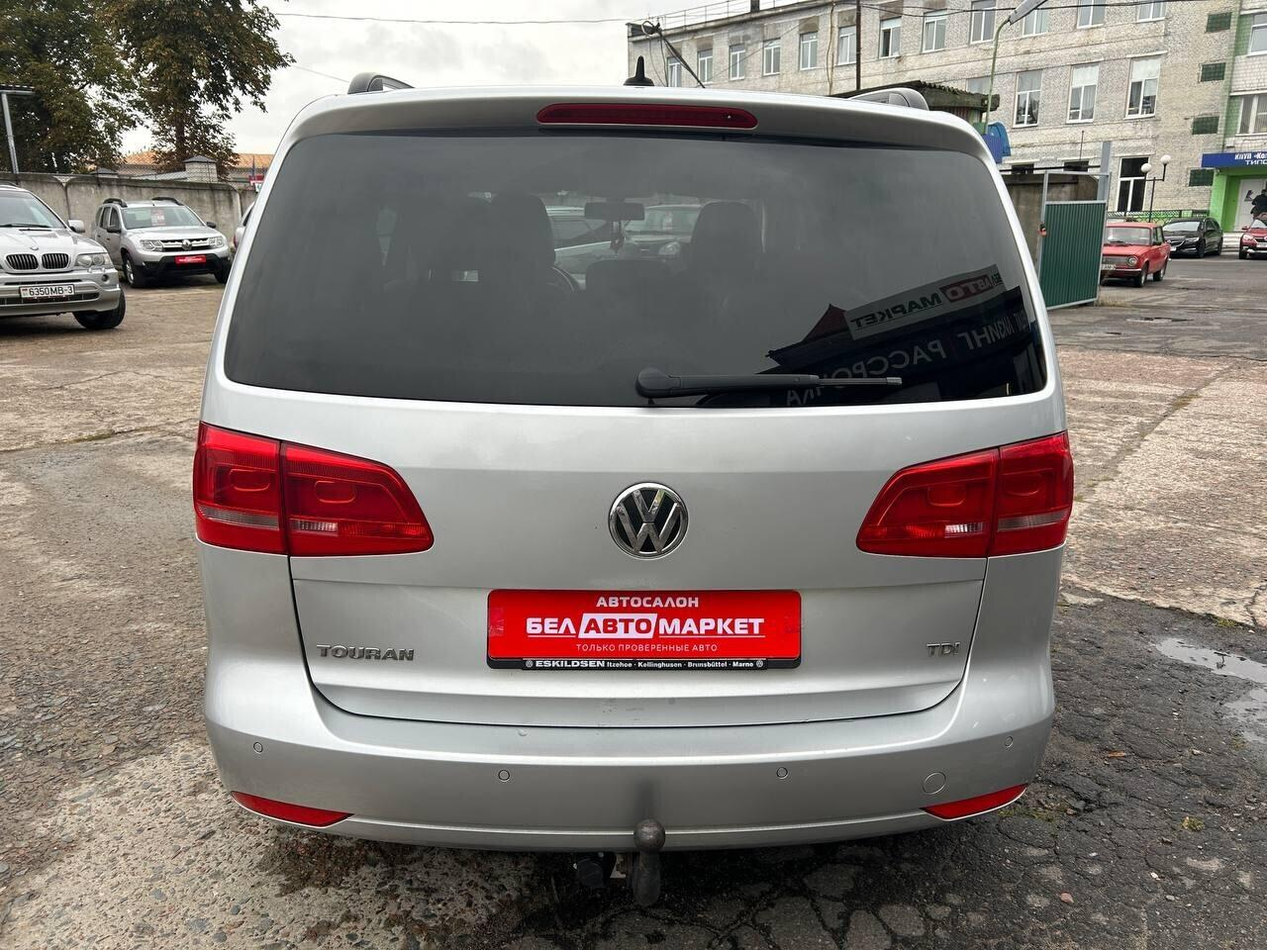Touran_2010-2015: (189, 78, 1069, 860)
